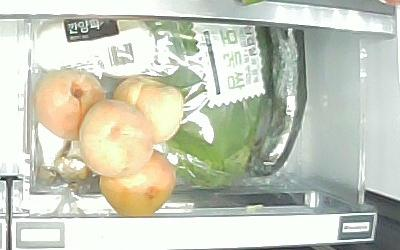peach: (78, 100, 154, 177), (99, 150, 176, 218), (35, 70, 106, 141), (112, 76, 183, 145)
